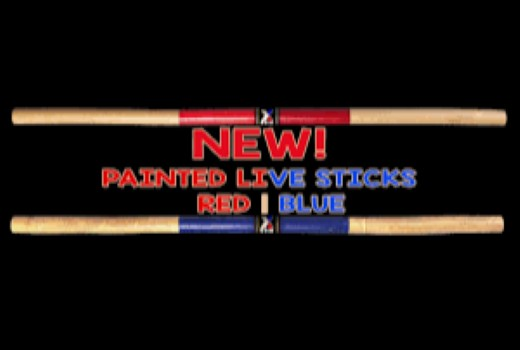baston_e: (20, 105, 497, 132), (17, 212, 493, 238)
baston_v: (4, 211, 26, 239), (5, 104, 27, 129), (492, 209, 511, 237), (496, 103, 513, 129)
